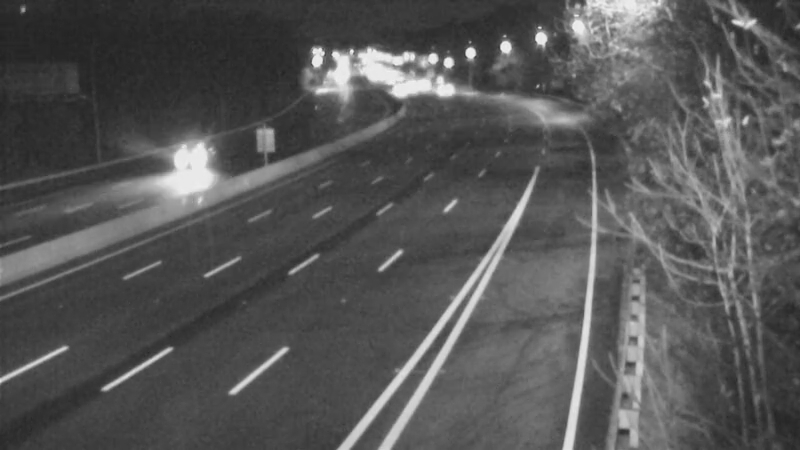vehicle: (155, 125, 235, 205), (412, 71, 462, 121)
